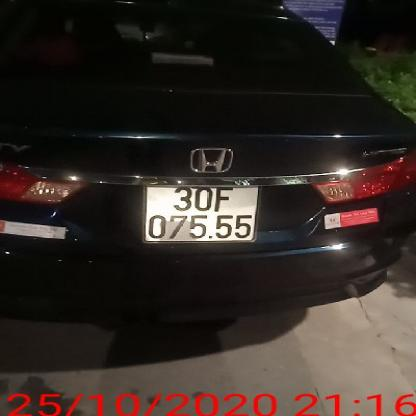biensoxe: (143, 180, 261, 247)
